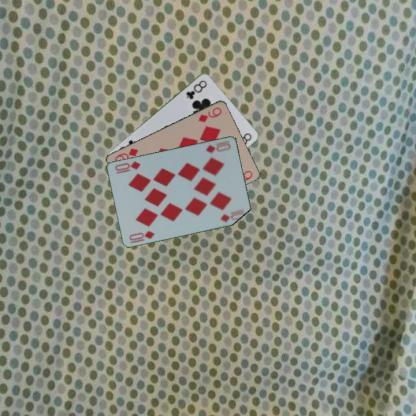10d: (204, 138, 233, 154), (127, 228, 156, 244)
8c: (183, 78, 208, 100)
9d: (196, 105, 223, 124)
